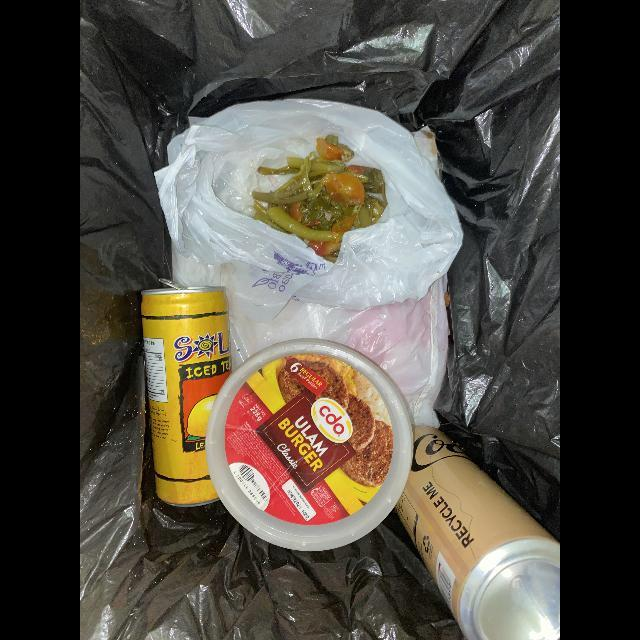aluminum: (396, 426, 560, 640), (141, 280, 232, 507)
left_over_food: (252, 135, 388, 263)
plastic_bag: (154, 98, 464, 326)
plastic_container: (205, 339, 414, 554)
